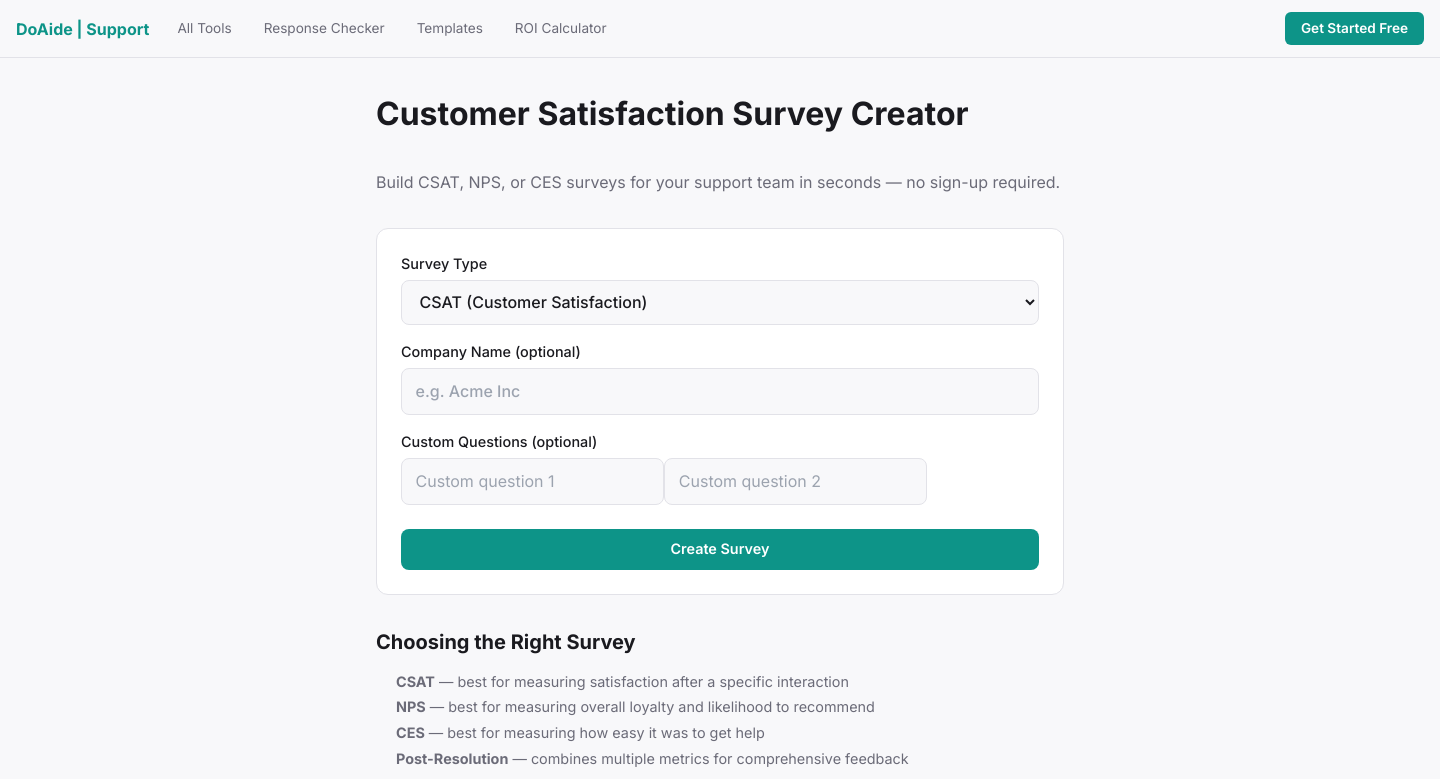
Test: CSATSurveyCreatorPage › includes custom questions when provided
Type "How did you hear about us?" into the field with placeholder "Custom question 1" at (533, 481), box [401, 458, 664, 505]
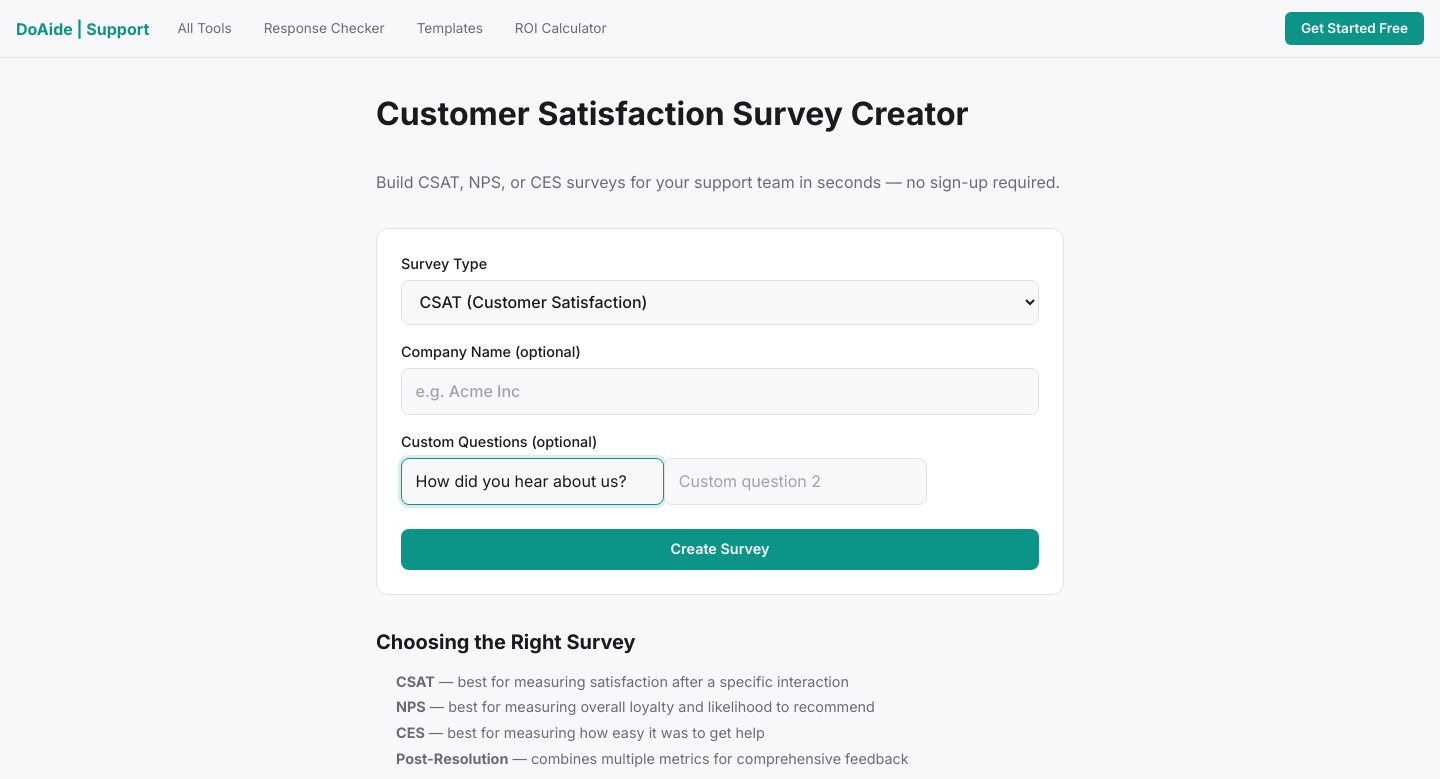
Click the button "Create Survey" at (720, 549), box [401, 529, 1039, 570]
(page scrolled)
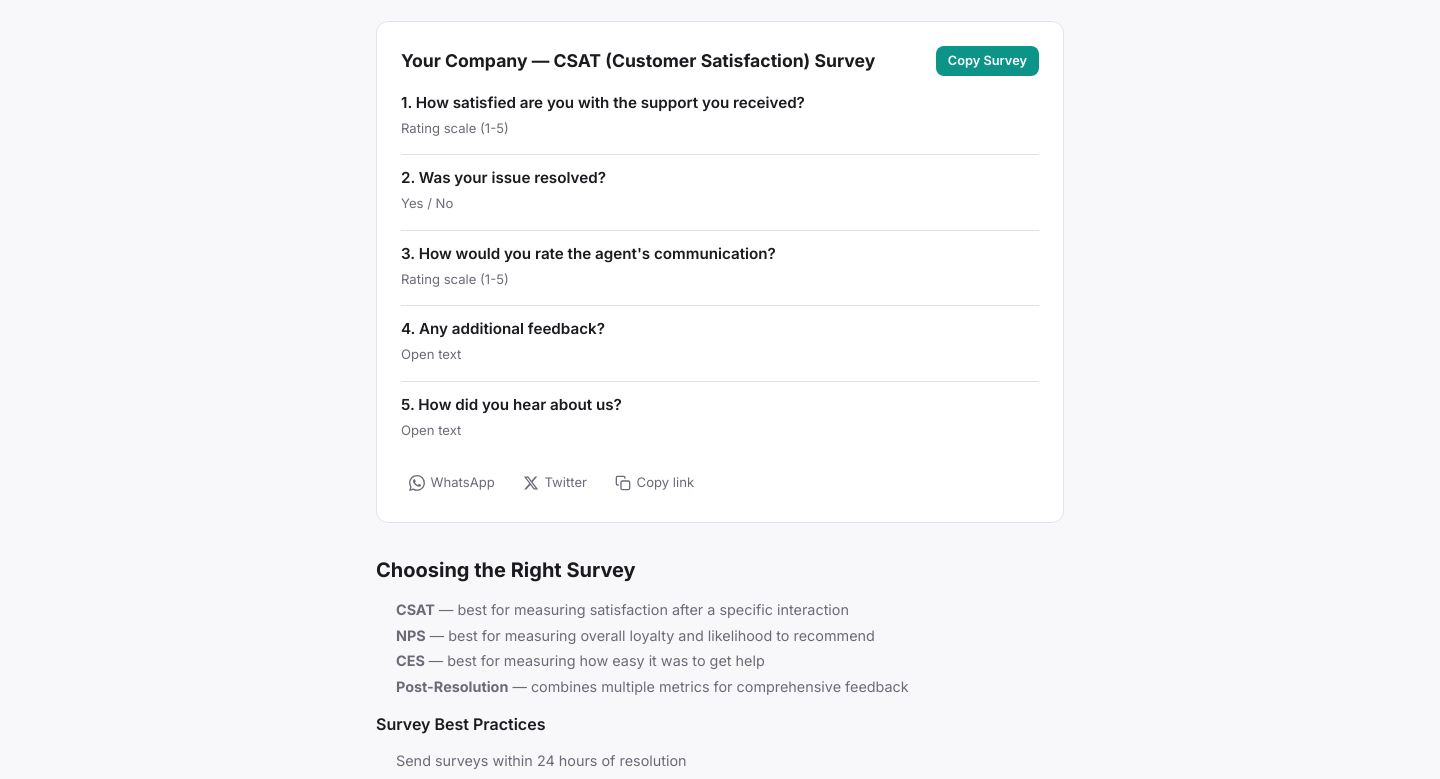
Now the text "5. How did you hear about us?" is shown, box [401, 395, 622, 414]
